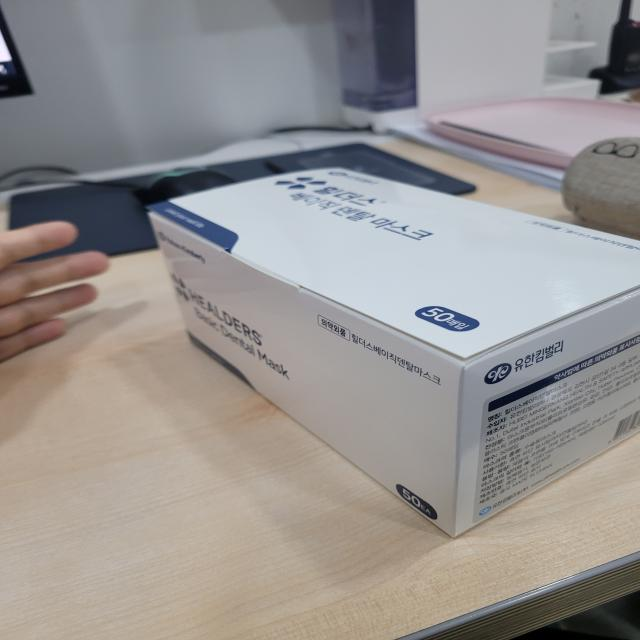mask: (114, 151, 640, 551)
